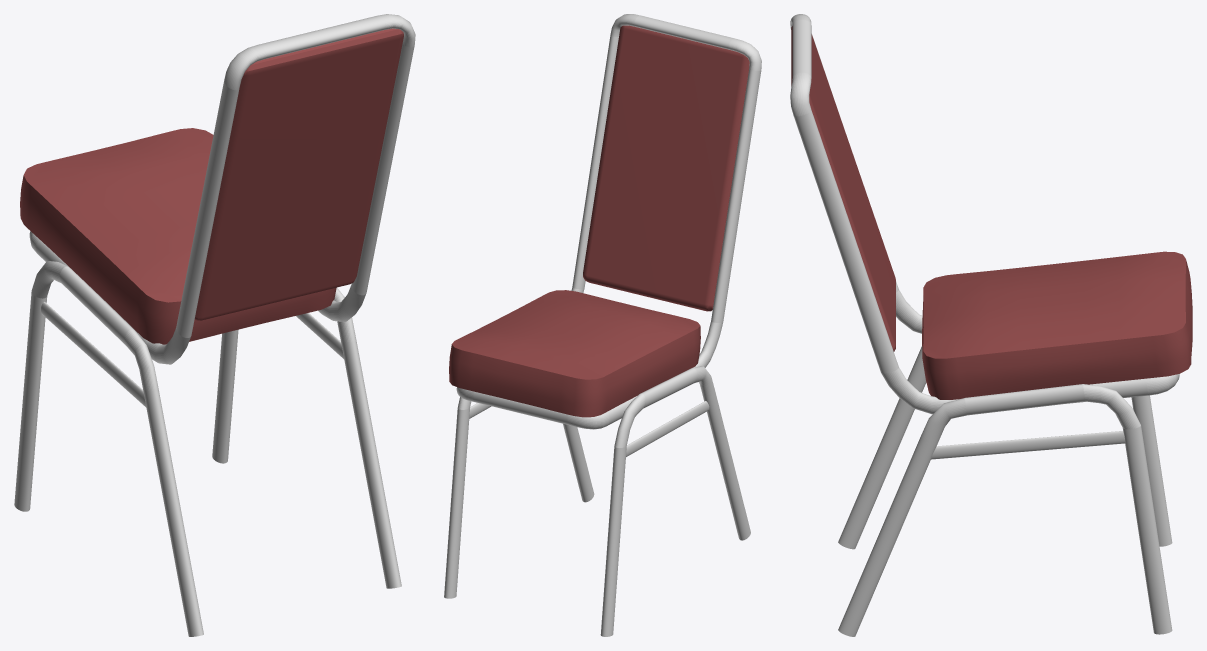
Rendered from Bangku Tele.fbx.
The picture shows the model from 3 angles, left to right: view 1: azimuth 30°, elevation 25°; view 2: azimuth 150°, elevation 25°; view 3: azimuth 270°, elevation 25°; orthographic projection. The views are drawn at different scales.
Visible parts, largest first — view 1: pCylinder21, pCube2; view 2: pCylinder21, pCube2; view 3: pCylinder21, pCube2.
Boxes of the visible parts, x1,y1,x2,y2 form: pCylinder21: [14, 14, 415, 636]; pCube2: [194, 28, 403, 320]; pCylinder21: [444, 14, 761, 636]; pCube2: [583, 25, 749, 311]; pCylinder21: [790, 14, 1192, 636]; pCube2: [791, 26, 895, 351].
Bounding box in the file's own units: 3.97 × 10.88 × 7.27.
